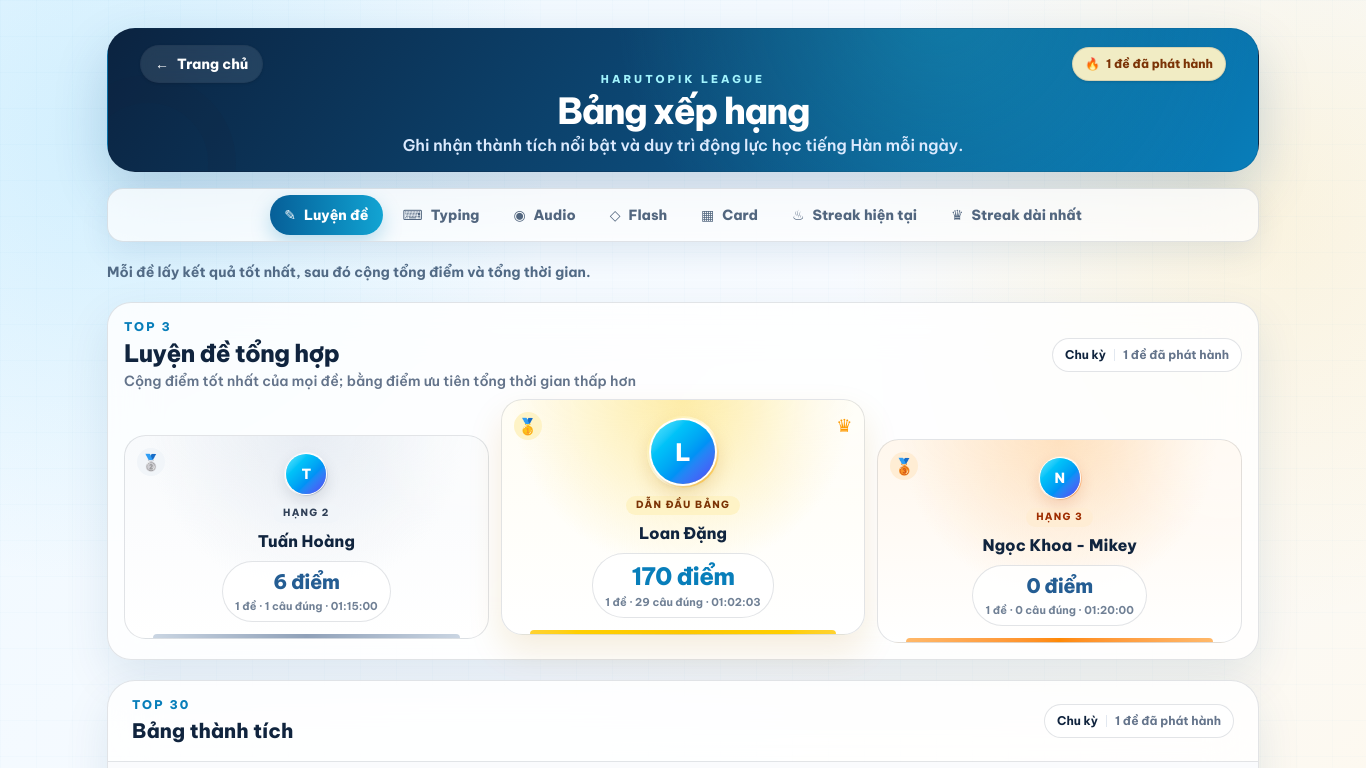
Test: LeaderboardView › chuyển tab bằng snapshot trong bộ nhớ và đồng bộ URL
Click the link "◉ Audio": (545, 215) top-left (513, 206), bottom-right (576, 224)
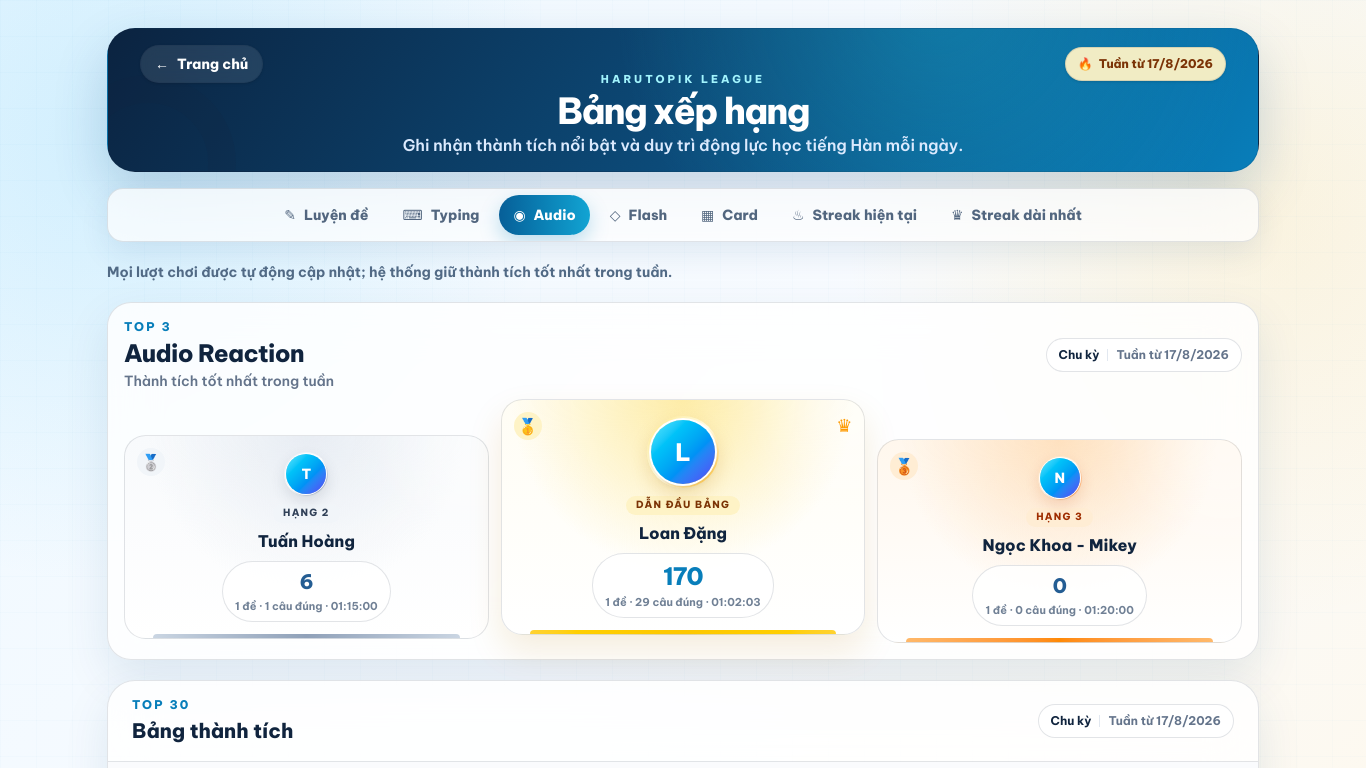
Now the heading "Audio Reaction" is shown, box top-left (124, 337), bottom-right (334, 369)
